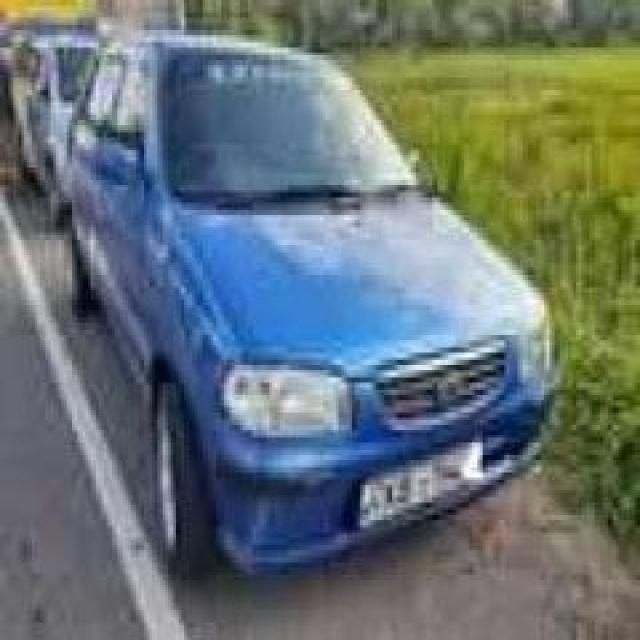car: (45, 16, 603, 582)
